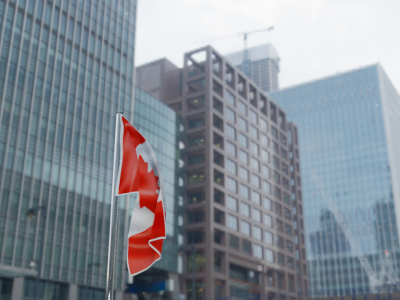Canada flag: (118, 113, 170, 279)
